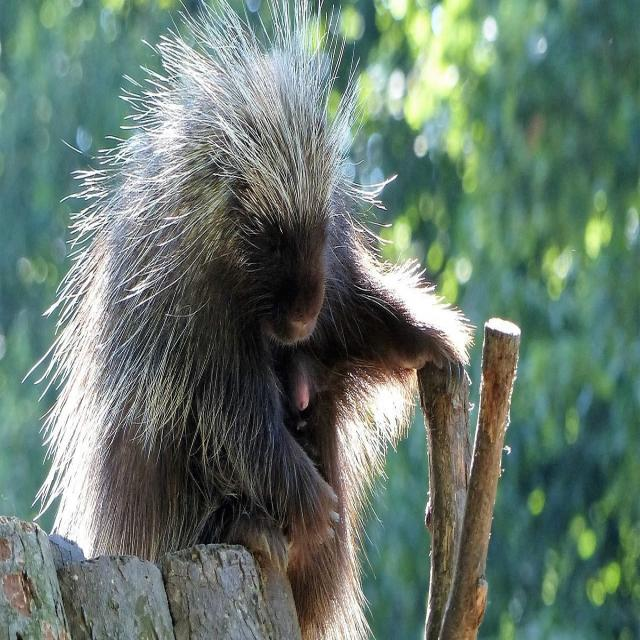porcupine: (38, 3, 474, 639)
